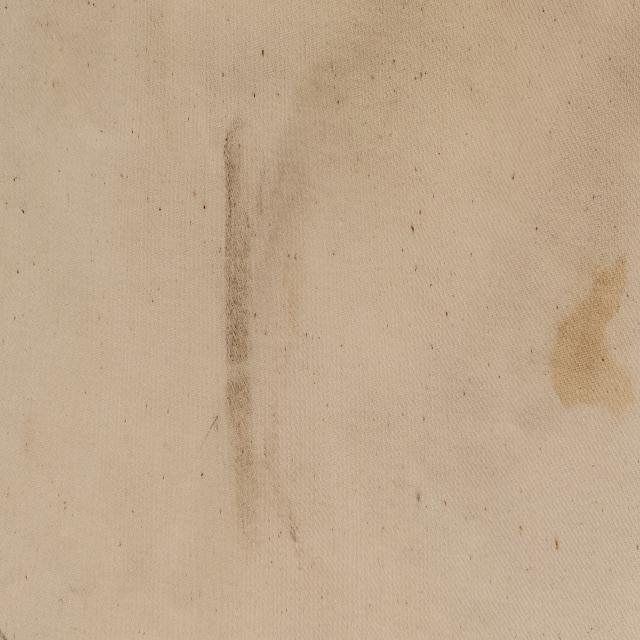taaaches: (205, 82, 308, 576), (535, 233, 640, 443)
